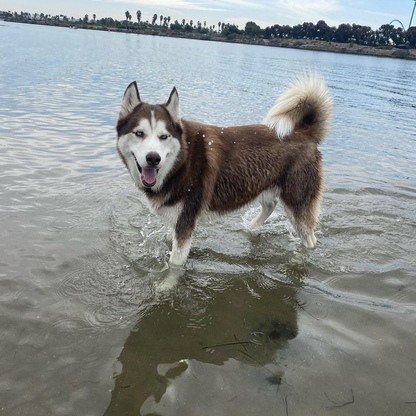husky: (107, 65, 340, 300)
